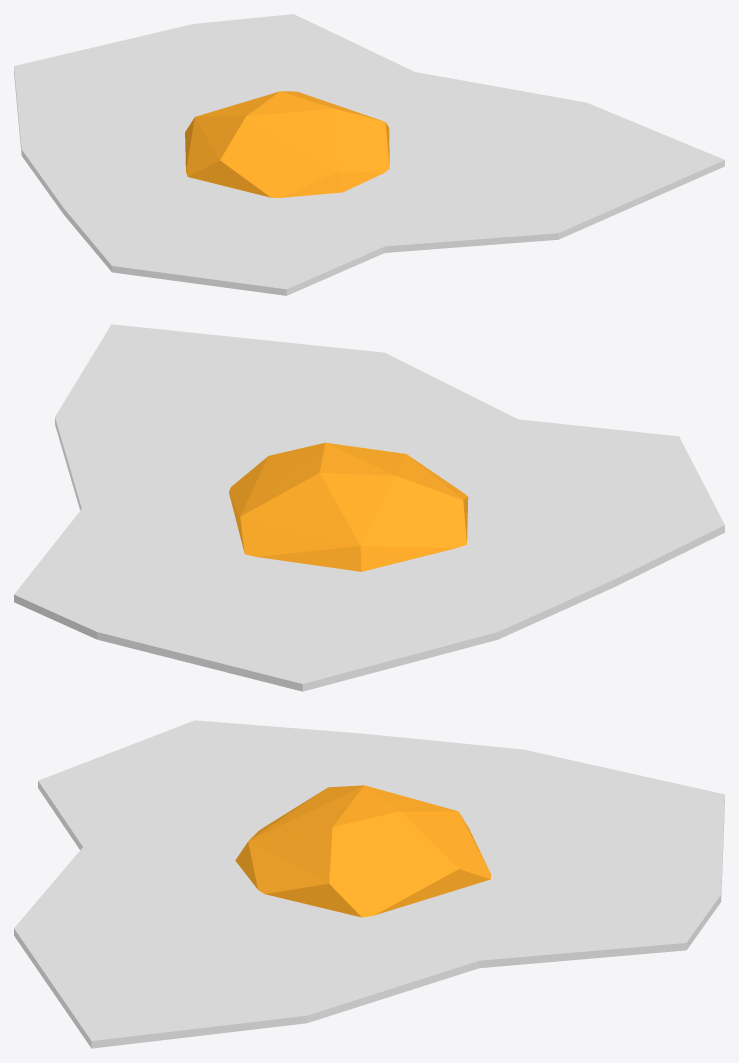
File: Egg_Fried.glb
The picture shows the model from 3 angles, top to bottom: view 1: azimuth 30°, elevation 25°; view 2: azimuth 150°, elevation 25°; view 3: azimuth 270°, elevation 25°; orthographic projection. The views are drawn at different scales.
Visible parts, largest first — view 1: Egg_Fried; view 2: Egg_Fried; view 3: Egg_Fried.
Boxes of the visible parts, bbox=[...] form: Egg_Fried: bbox=[14, 14, 724, 295]; Egg_Fried: bbox=[14, 324, 724, 691]; Egg_Fried: bbox=[14, 720, 724, 1048].
Bounding box in the file's own units: 119 × 10.71 × 112.
